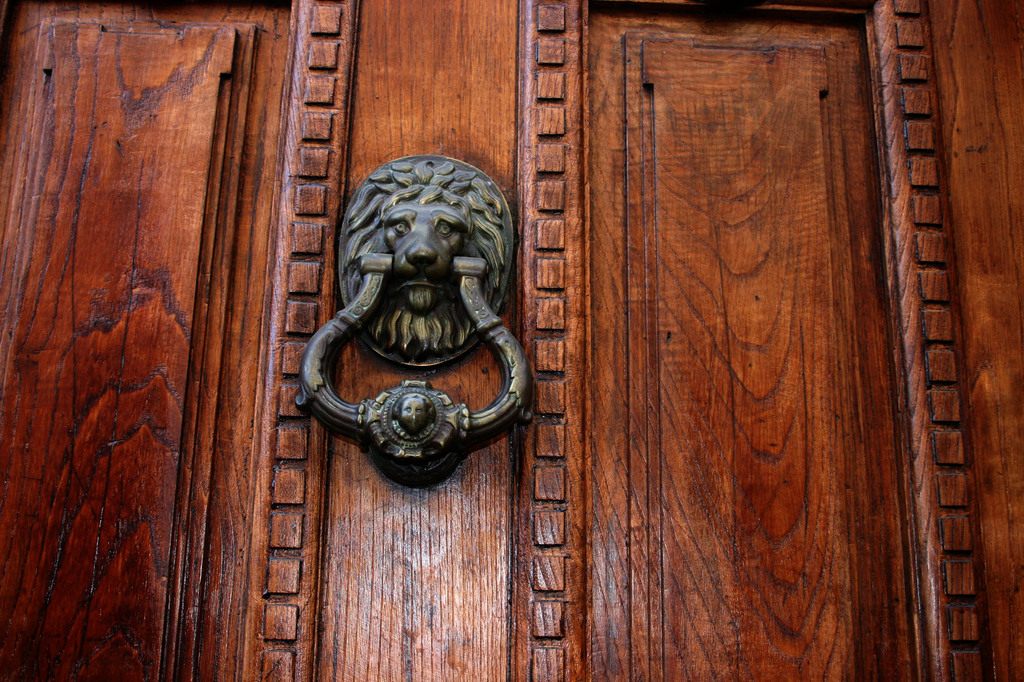door: (30, 40, 978, 672)
handle: (300, 250, 556, 497)
